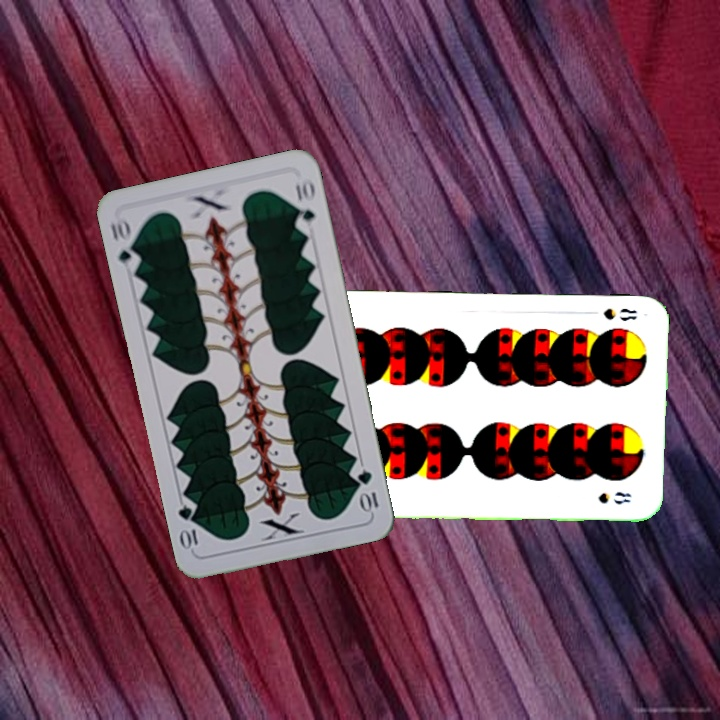G10: (107, 214, 143, 273), (354, 466, 381, 515)
S8: (600, 304, 640, 323)
